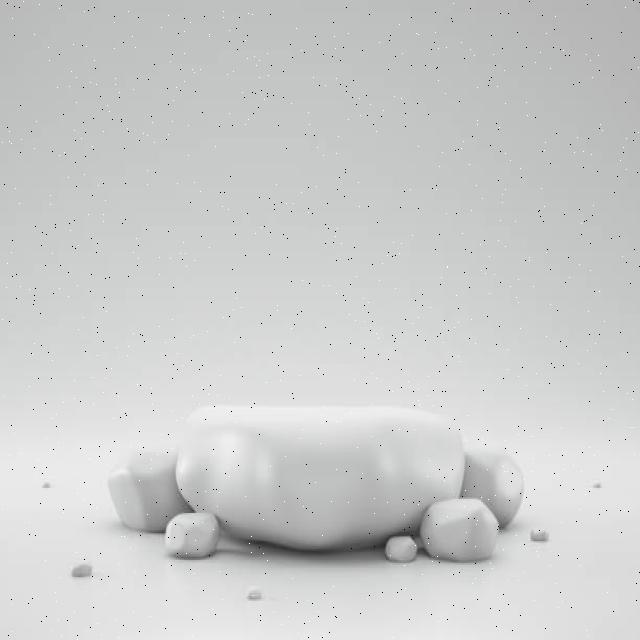Metamorphic: (87, 378, 560, 562)
